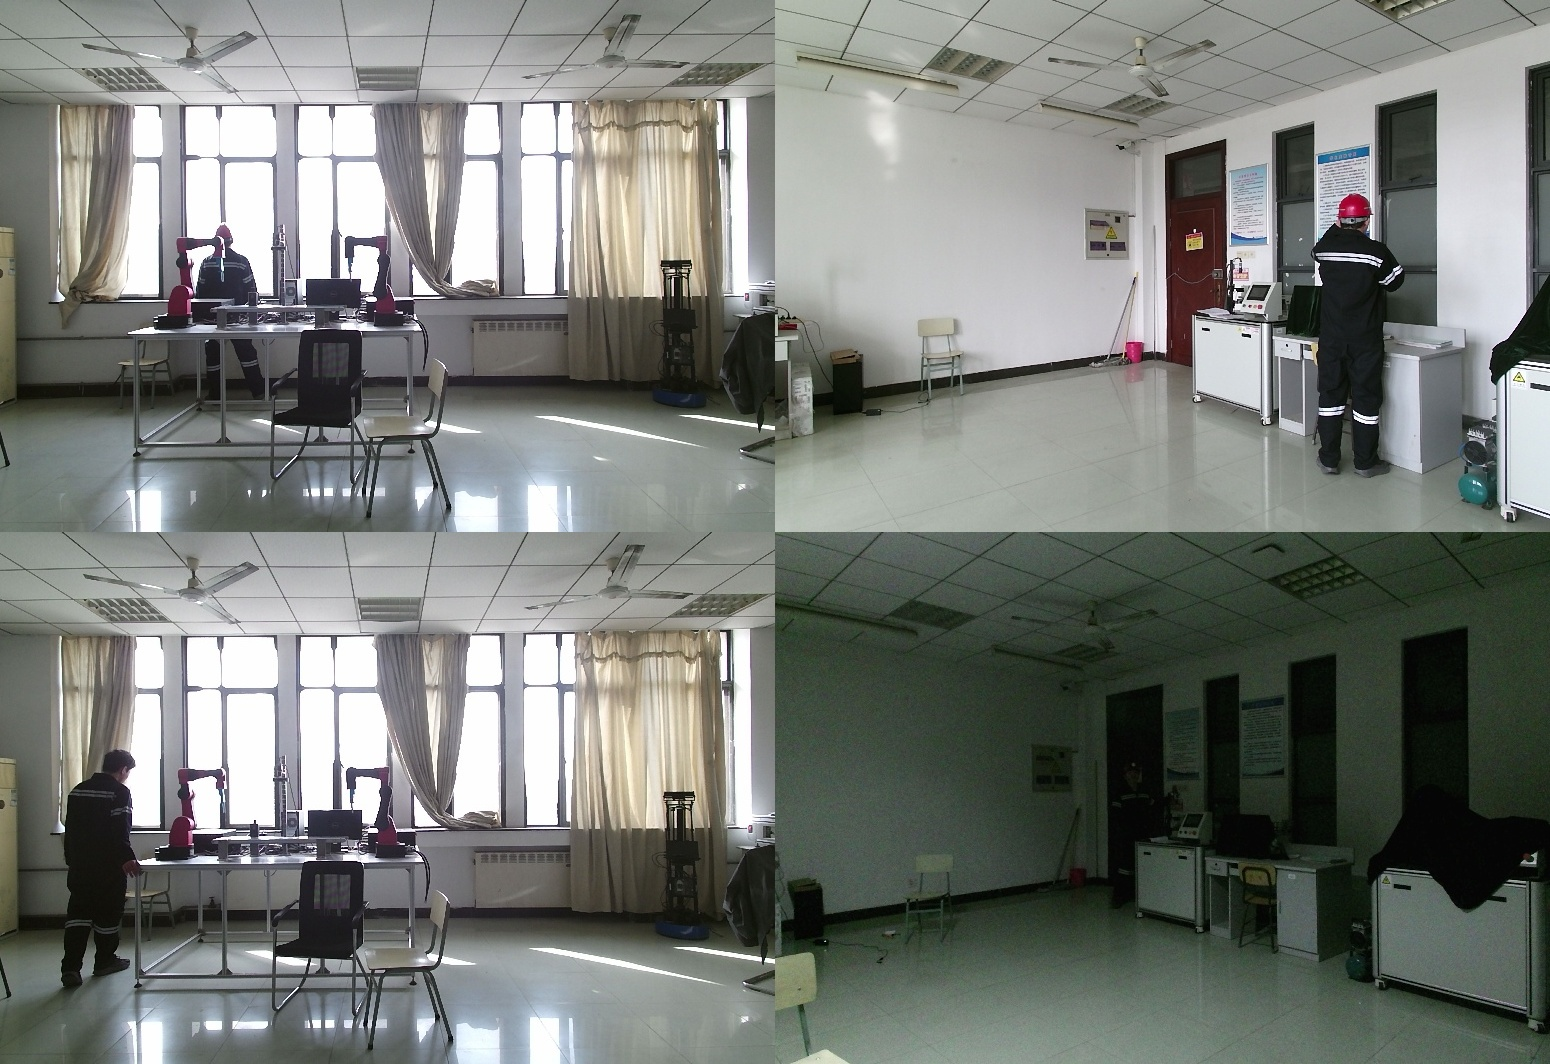person: (1307, 193, 1426, 474), (56, 749, 143, 985), (196, 227, 270, 412), (1106, 763, 1168, 910)
